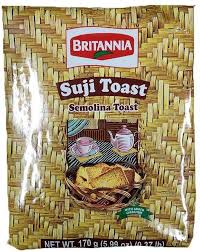Britania-toast-med: (6, 1, 199, 247)
